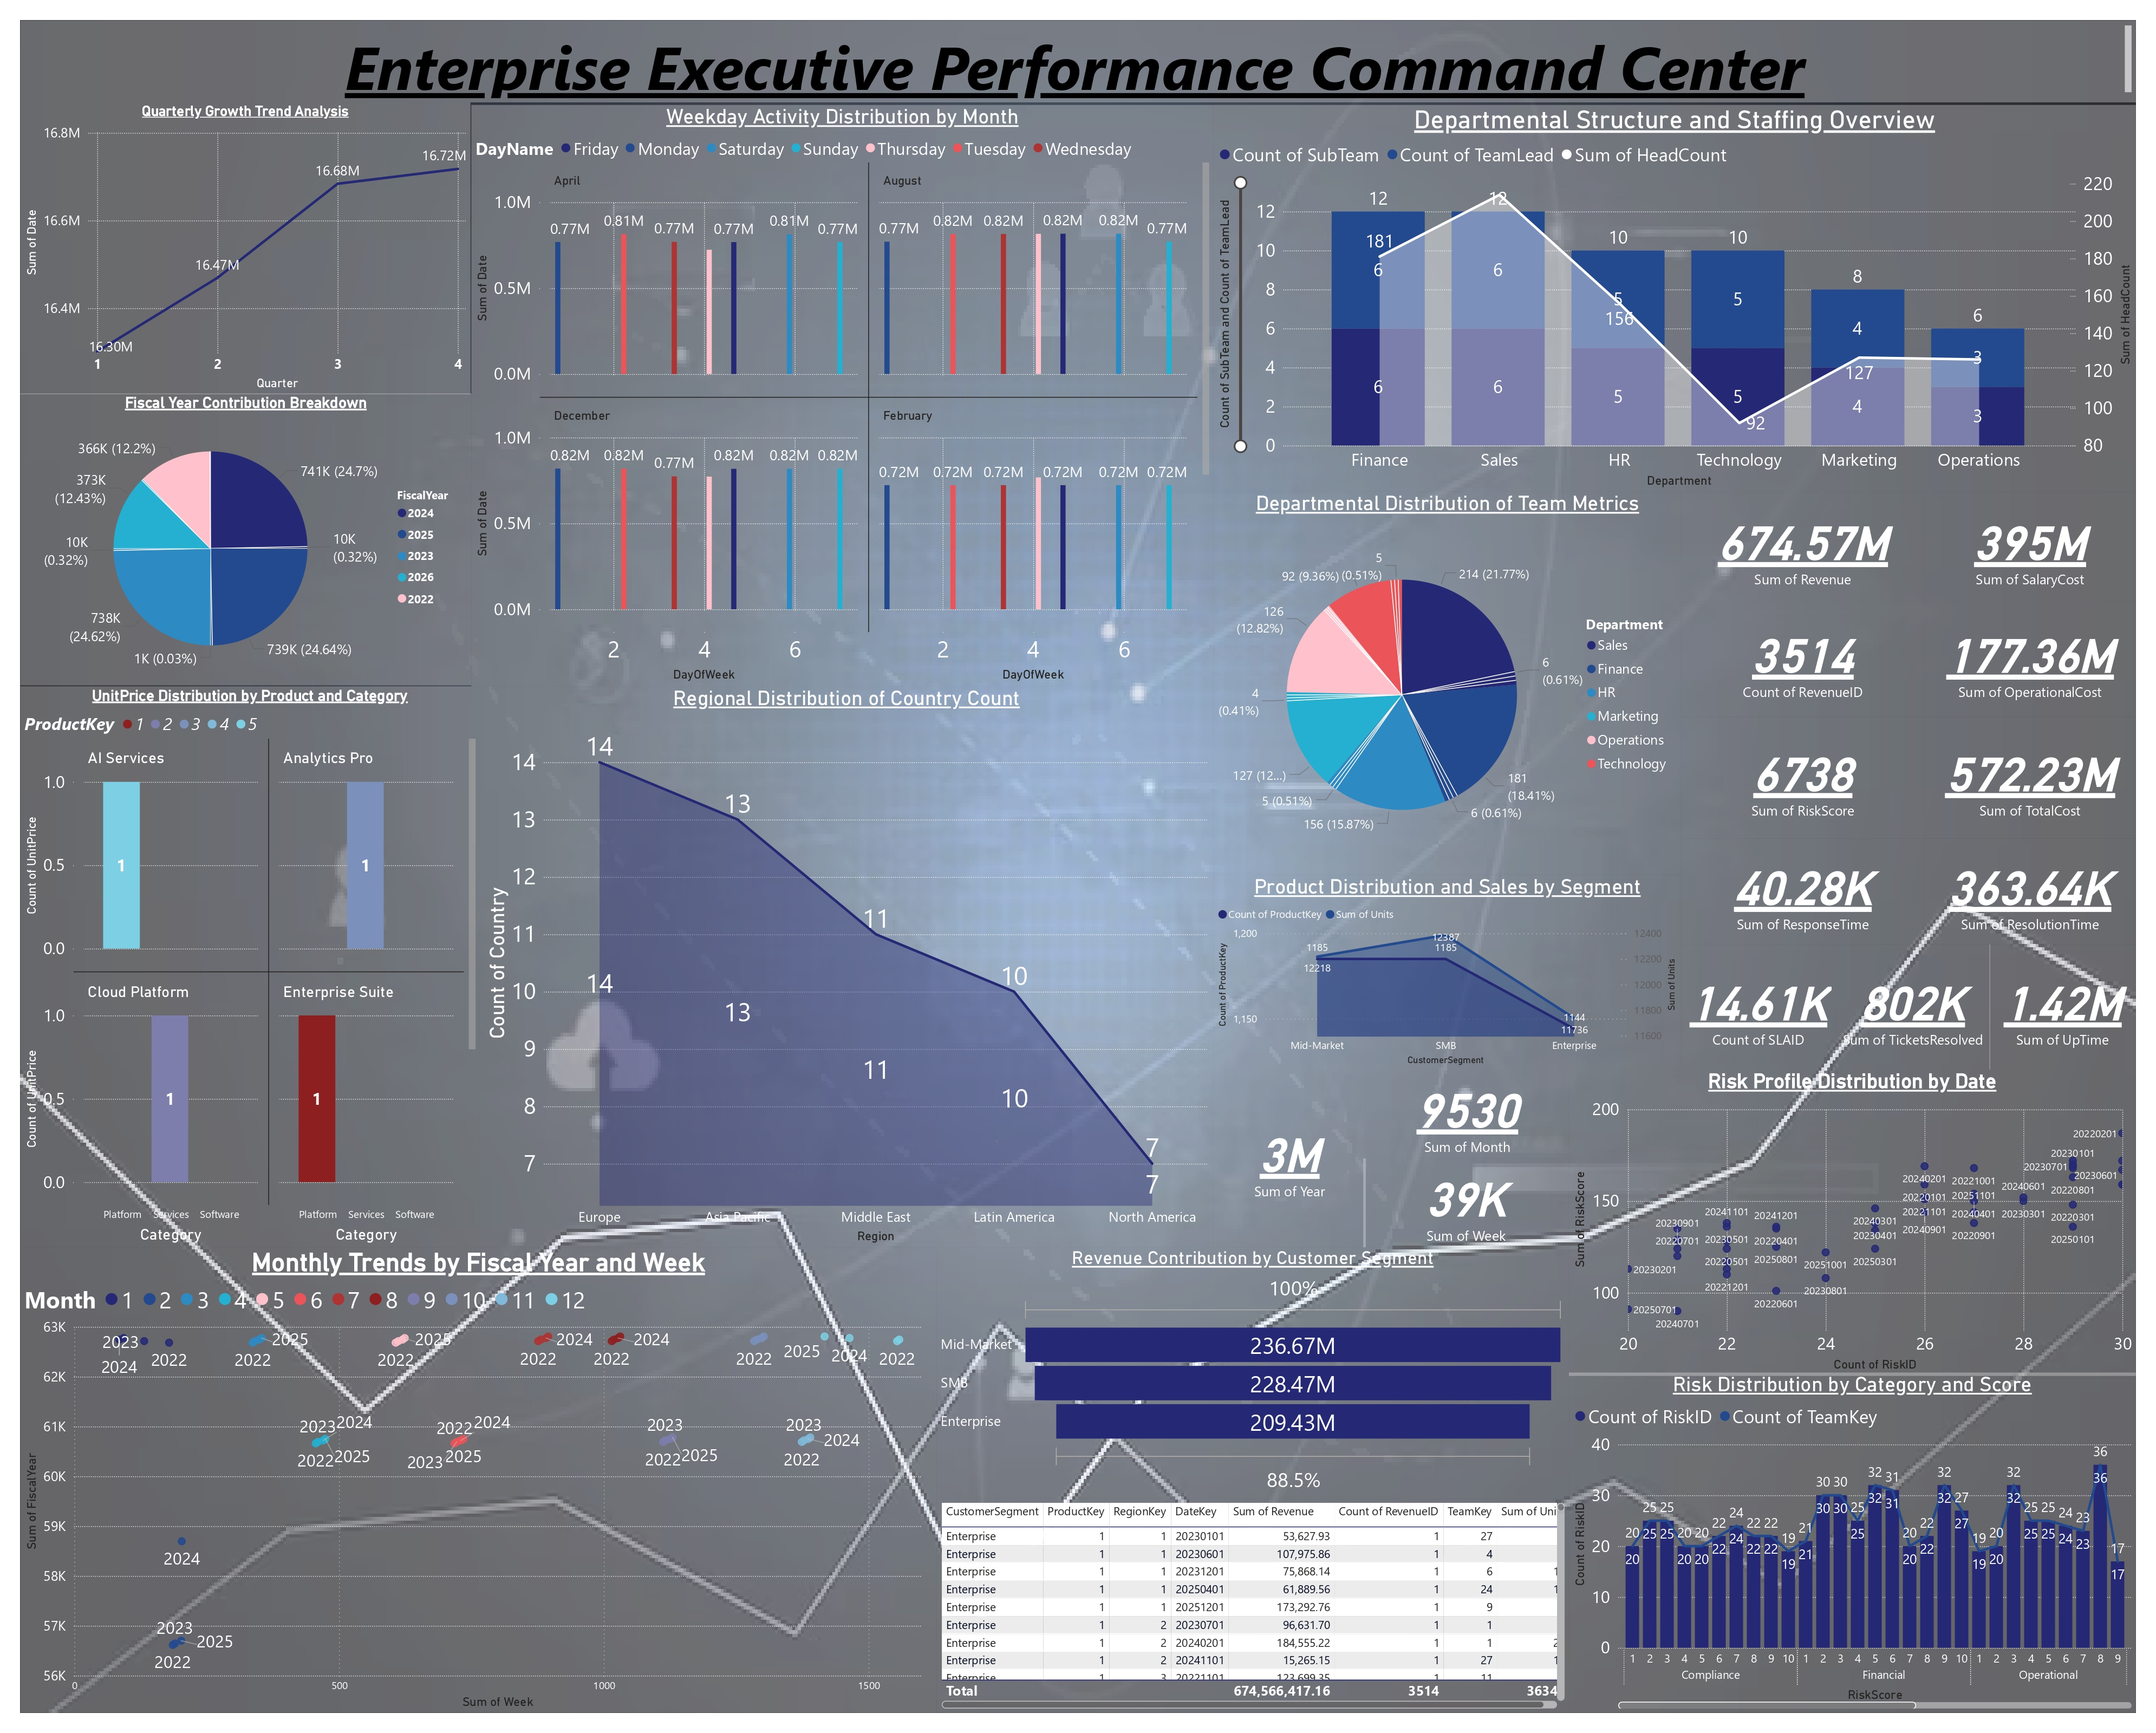

What the dashboard file says about the page in this screenshot:
{"tool":"powerbi","page":{"name":"Page 1","canvas":[2500,2000],"ordinal":0},"visuals":[{"type":"textbox","box":[0,0,2500,96.7],"z":0},{"type":"lineChart","title":"Quarterly Growth Trend Analysis","fields":{"Category":["DimDate.Quarter"],"Y":["Sum(DimDate.Date)"]},"box":[0,96.7,531.7,345],"z":1000},{"type":"clusteredColumnChart","title":"Weekday Activity Distribution by Month","fields":{"Category":["DimDate.DayOfWeek"],"Series":["DimDate.DayName"],"Rows":["DimDate.MonthName"],"Y":["Sum(DimDate.Date)"]},"box":[533.3,100,876.7,686.7],"z":2000},{"type":"pieChart","title":"Fiscal Year Contribution Breakdown","fields":{"Category":["DimDate.FiscalYear"],"Y":["Sum(DimDate.Year)","Sum(DimDate.Week)","Sum(DimDate.Quarter)"]},"box":[0,441.2,532.5,345],"z":3000},{"type":"scatterChart","title":"Monthly Trends by Fiscal Year and Week","fields":{"Category":["DimDate.Year"],"X":["Sum(DimDate.Week)"],"Y":["Sum(DimDate.FiscalYear)"],"Series":["DimDate.Month"]},"box":[0,1450,1083.3,550],"z":4000},{"type":"lineStackedColumnComboChart","title":"UnitPrice Distribution by Product and Category","fields":{"Category":["DimProduct.Category"],"Series":["DimProduct.ProductKey"],"Rows":["DimProduct.ProductName"],"Y":["CountNonNull(DimProduct.UnitPrice)"]},"box":[0,786.7,543.3,663.3],"z":5000},{"type":"stackedAreaChart","title":"Regional Distribution of Country Count","fields":{"Category":["DimRegion.Region"],"Y":["CountNonNull(DimRegion.Country)"]},"box":[543,787,867,663],"z":6000},{"type":"lineStackedColumnComboChart","title":"Departmental Structure and Staffing Overview","fields":{"Y":["CountNonNull(DimTeam.SubTeam)","CountNonNull(DimTeam.TeamLead)"],"Category":["DimTeam.Department"],"Y2":["Sum(DimTeam.HeadCount)"]},"box":[1410,100,1090,456.7],"z":7000},{"type":"card","fields":{"Values":["Sum(FactCost.SalaryCost)"]},"box":[2250,556.7,250,130],"z":8000},{"type":"card","fields":{"Values":["Sum(FactCost.OperationalCost)"]},"box":[2250,686.7,250,136.7],"z":9000},{"type":"card","fields":{"Values":["Sum(FactCost.TotalCost)"]},"box":[2250,823.3,250,143.3],"z":10000},{"type":"funnel","title":"Revenue Contribution by Customer Segment","fields":{"Category":["FactRevenue.CustomerSegment","FactRevenue.DateKey","FactRevenue.ProductKey","FactRevenue.RegionKey"],"Y":["Sum(FactRevenue.Revenue)"]},"box":[1083.3,1450,746.7,296.7],"z":11000},{"type":"tableEx","fields":{"Values":["FactRevenue.CustomerSegment","FactRevenue.ProductKey","FactRevenue.RegionKey","FactRevenue.DateKey","Sum(FactRevenue.Revenue)","CountNonNull(FactRevenue.RevenueID)","FactRevenue.TeamKey","Sum(FactRevenue.Units)"]},"box":[1083.3,1746.7,746.7,253.3],"z":12000},{"type":"card","fields":{"Values":["Sum(FactRevenue.Revenue)"]},"box":[1963.3,556.7,286.7,130],"z":13000},{"type":"card","fields":{"Values":["CountNonNull(FactRevenue.RevenueID)"]},"box":[1963.3,686.7,286.7,136.7],"z":14000},{"type":"card","fields":{"Values":["Sum(FactRisk.RiskScore)"]},"box":[1963.3,823.3,286.7,143.3],"z":15000},{"type":"lineStackedColumnComboChart","title":"Risk Distribution by Category and Score","fields":{"Category":["FactRisk.RiskCategory","FactRisk.RiskScore"],"Y":["CountNonNull(FactRisk.RiskID)"],"Y2":["CountNonNull(FactRisk.TeamKey)"]},"box":[1830,1598.3,670,401.7],"z":16000},{"type":"scatterChart","title":"Risk Profile Distribution by Date","fields":{"Category":["FactRisk.DateKey"],"X":["CountNonNull(FactRisk.RiskID)"],"Y":["Sum(FactRisk.RiskScore)"]},"box":[1830,1240,670,361.7],"z":17000},{"type":"card","fields":{"Values":["Sum(FactSLA.ResolutionTime)"]},"box":[2250,966.7,250,125],"z":18000},{"type":"card","fields":{"Values":["Sum(FactSLA.ResponseTime)"]},"box":[1963.3,966.7,286.7,125],"z":19000},{"type":"card","fields":{"Values":["Sum(FactSLA.UpTime)"]},"box":[2326.7,1091.7,173.3,148.3],"z":20000},{"type":"card","fields":{"Values":["Sum(FactSLA.TicketsResolved)"]},"box":[2145,1091.7,183.3,148.3],"z":21000},{"type":"card","fields":{"Values":["CountNonNull(FactSLA.SLAID)"]},"box":[1963.3,1091.7,181.7,148.3],"z":22000},{"type":"areaChart","title":"Product Distribution and Sales by Segment","fields":{"Category":["FactRevenue.CustomerSegment"],"Y":["CountNonNull(FactRevenue.ProductKey)"],"Y2":["Sum(FactRevenue.Units)"]},"box":[1410,1010,553.3,230],"z":23000},{"type":"card","fields":{"Values":["Sum(DimDate.Year)"]},"box":[1410,1240,180,210],"z":24000},{"type":"card","fields":{"Values":["Sum(DimDate.Month)"]},"box":[1590,1240,240,105],"z":25000},{"type":"card","fields":{"Values":["Sum(DimDate.Week)"]},"box":[1586.7,1345,243.3,105],"z":26000},{"type":"pieChart","title":"Departmental Distribution of Team Metrics","fields":{"Category":["DimTeam.Department"],"Y":["Sum(DimTeam.HeadCount)","CountNonNull(DimTeam.SubTeam)","CountNonNull(DimTeam.TeamKey)","CountNonNull(DimTeam.TeamLead)"]},"box":[1410,556.7,553.3,453.3],"z":27000}]}

Visuals, with their boxes in screenshot pixels (x1, y1, x2, y2):
textbox: Rect(11, 11, 2138, 94)
"Quarterly Growth Trend Analysis" lineChart: Rect(11, 94, 464, 387)
"Weekday Activity Distribution by Month" clusteredColumnChart: Rect(465, 96, 1210, 680)
"Fiscal Year Contribution Breakdown" pieChart: Rect(11, 387, 464, 680)
"Monthly Trends by Fiscal Year and Week" scatterChart: Rect(11, 1245, 933, 1712)
"UnitPrice Distribution by Product and Category" lineStackedColumnComboChart: Rect(11, 680, 473, 1245)
"Regional Distribution of Country Count" stackedAreaChart: Rect(473, 681, 1210, 1245)
"Departmental Structure and Staffing Overview" lineStackedColumnComboChart: Rect(1210, 96, 2138, 485)
card - Sum(FactCost.SalaryCost): Rect(1925, 485, 2138, 595)
card - Sum(FactCost.OperationalCost): Rect(1925, 595, 2138, 712)
card - Sum(FactCost.TotalCost): Rect(1925, 712, 2138, 833)
"Revenue Contribution by Customer Segment" funnel: Rect(933, 1245, 1568, 1497)
tableEx - FactRevenue.CustomerSegment x FactRevenue.ProductKey: Rect(933, 1497, 1568, 1712)
card - Sum(FactRevenue.Revenue): Rect(1681, 485, 1925, 595)
card - CountNonNull(FactRevenue.RevenueID): Rect(1681, 595, 1925, 712)
card - Sum(FactRisk.RiskScore): Rect(1681, 712, 1925, 833)
"Risk Distribution by Category and Score" lineStackedColumnComboChart: Rect(1568, 1371, 2138, 1712)
"Risk Profile Distribution by Date" scatterChart: Rect(1568, 1066, 2138, 1373)
card - Sum(FactSLA.ResolutionTime): Rect(1925, 833, 2138, 940)
card - Sum(FactSLA.ResponseTime): Rect(1681, 833, 1925, 940)
card - Sum(FactSLA.UpTime): Rect(1990, 940, 2138, 1066)
card - Sum(FactSLA.TicketsResolved): Rect(1835, 940, 1991, 1066)
card - CountNonNull(FactSLA.SLAID): Rect(1681, 940, 1835, 1066)
"Product Distribution and Sales by Segment" areaChart: Rect(1210, 870, 1681, 1066)
card - Sum(DimDate.Year): Rect(1210, 1066, 1364, 1245)
card - Sum(DimDate.Month): Rect(1364, 1066, 1568, 1155)
card - Sum(DimDate.Week): Rect(1360, 1155, 1568, 1245)
"Departmental Distribution of Team Metrics" pieChart: Rect(1210, 485, 1681, 870)
